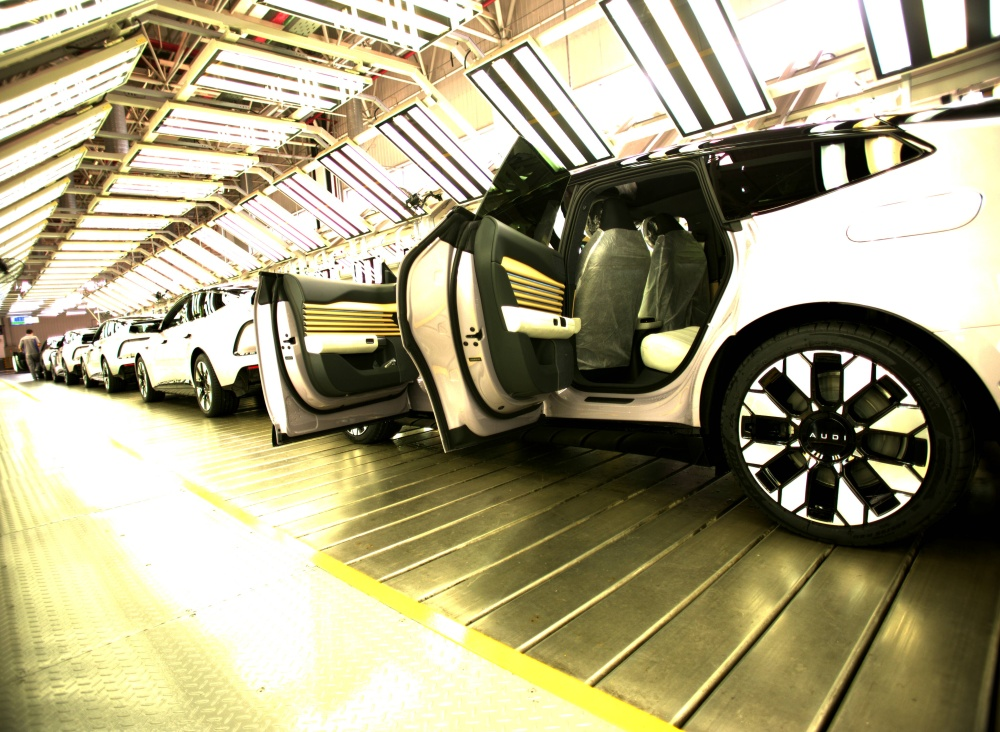armrest_color: (498, 303, 578, 342), (300, 331, 385, 354)
panel_color: (498, 253, 567, 316), (302, 303, 400, 333)
